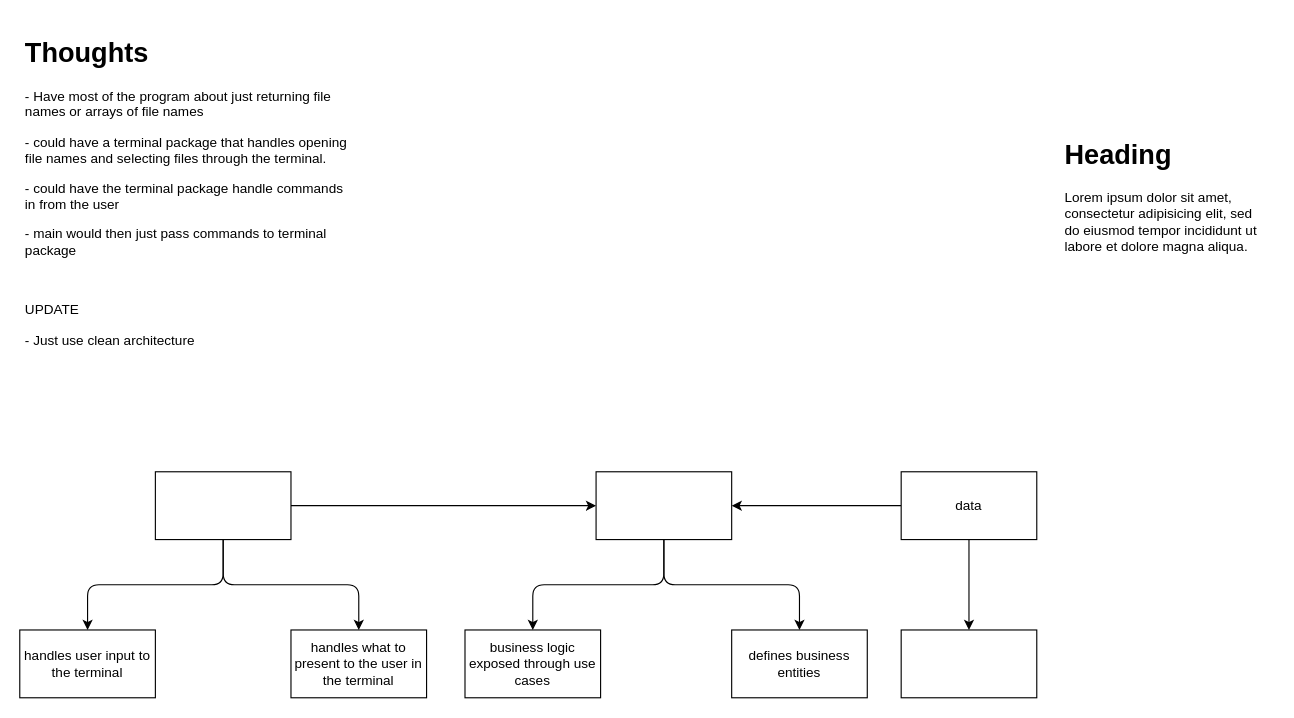
Some shapes in this 1294 by 718 pixel diagram are drawn without their labels. The shapes that lost their labels are listed below. From the top down, each one's centre as x and y in pixels, then its label:
At [222,505]: "presentation".
At [663,505]: "domain".
At [968,663]: "Write/Read file manager".
